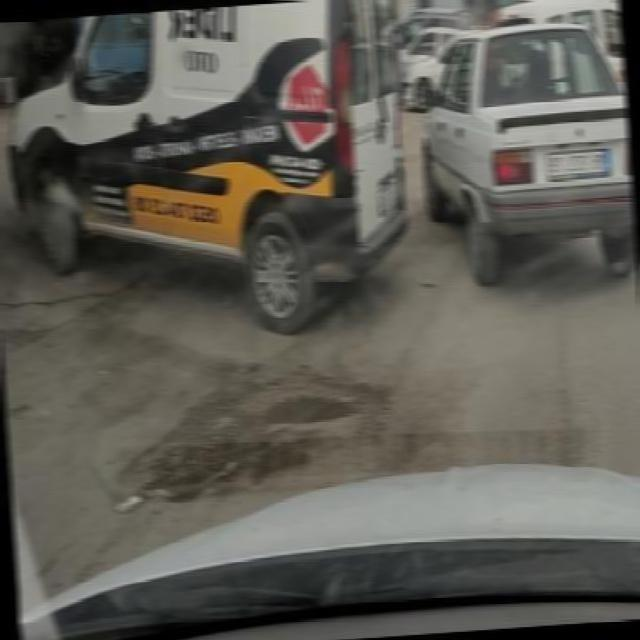Pothole: (108, 356, 392, 504)
